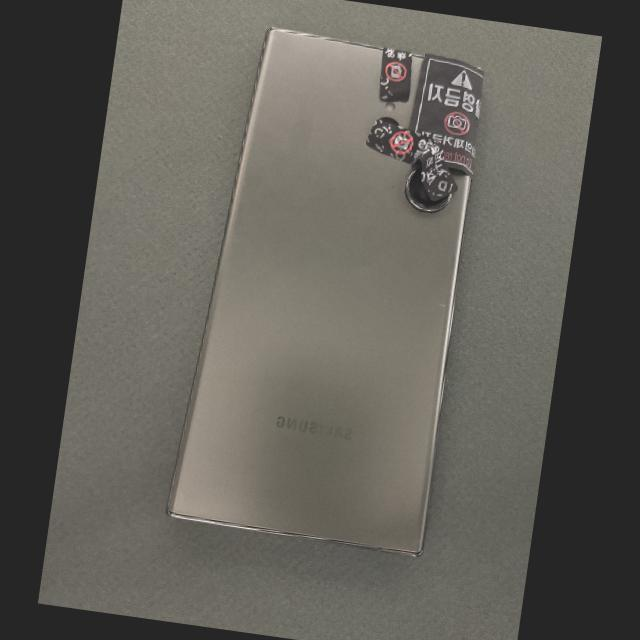lens: (406, 169, 450, 210)
phone: (168, 28, 483, 555)
sticker: (411, 54, 484, 177), (366, 120, 459, 202), (380, 48, 412, 103)
